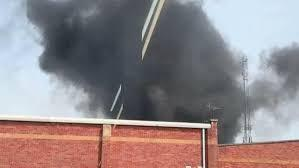smoke: (19, 1, 299, 143)
